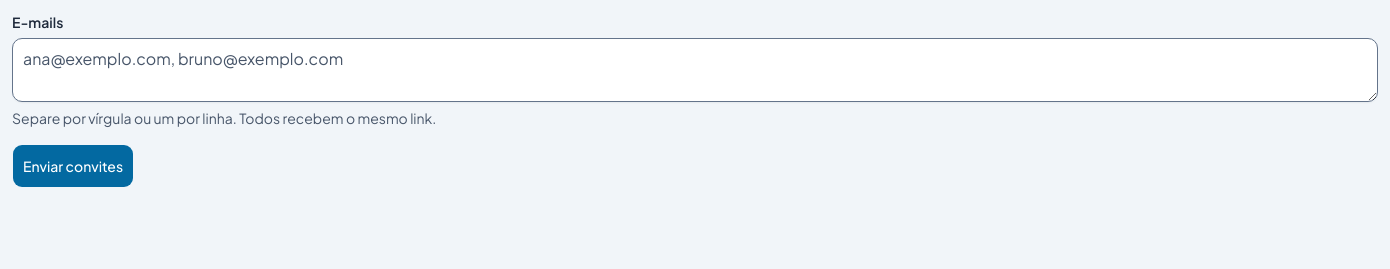
it: EmailInviteForm › mostra a mensagem do 429 e do 409 da API
Type "ana@exemplo.com" into the text box labelled "E-mails" at (695, 70), box [12,38,1378,102]
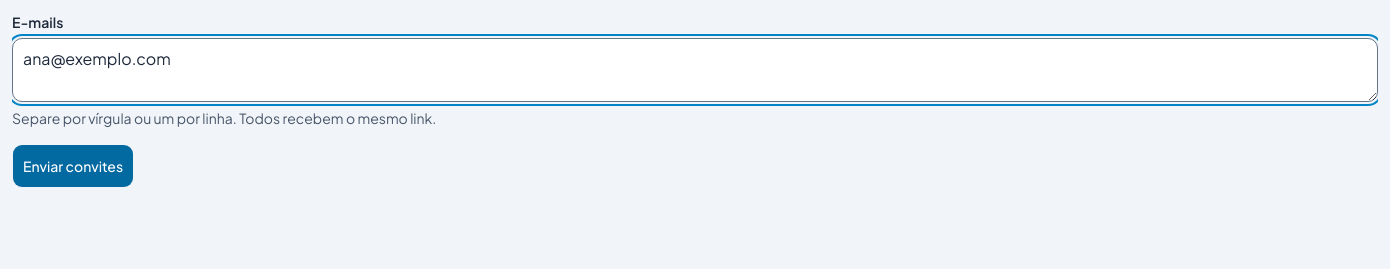
Click the button "Enviar convites" at (73, 166), box [12,144,134,188]
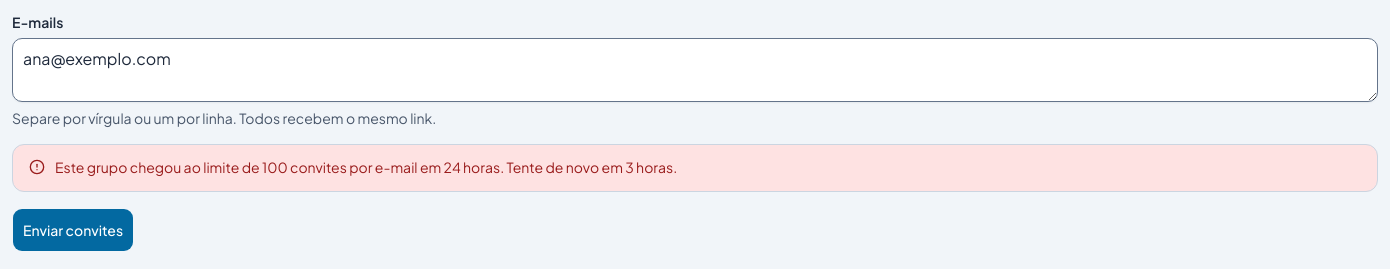
Now the message shows "Este grupo chegou ao limite de 100 convites por e-mail em 24 horas. Tente de novo em 3 horas.", box [55,158,677,176]
Click the button "Enviar convites" at (73, 230), box [12,208,134,252]
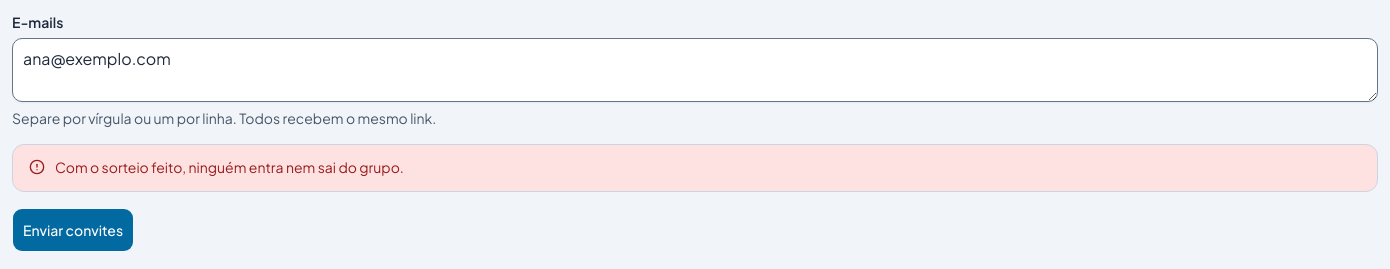
Now the message reads "Com o sorteio feito, ninguém entra nem sai do grupo.", box [55,158,404,176]
